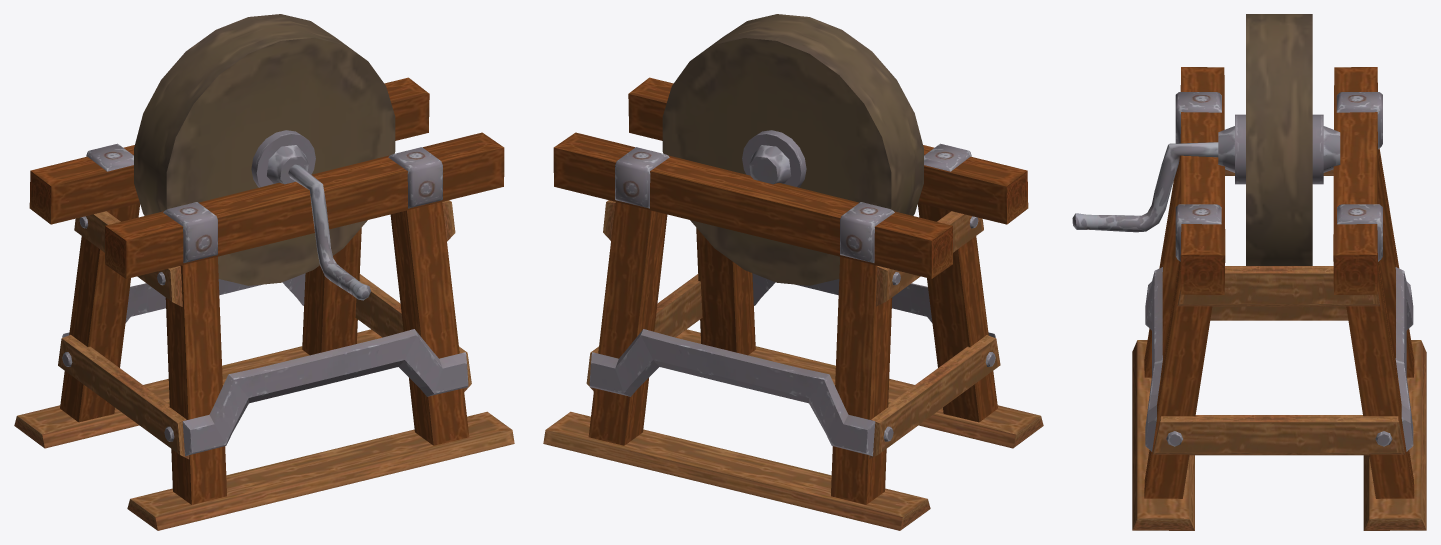
Rendered from Whetstone.glb.
3 views of the same model, side by side, from view 1: azimuth 30°, elevation 25°; view 2: azimuth 150°, elevation 25°; view 3: azimuth 270°, elevation 25° (orthographic). The views are drawn at different scales.
Parts seen in each view (by area): view 1: Whetstone; view 2: Whetstone; view 3: Whetstone.
Boxes of the visible parts, x1,y1,x2,y2 form: Whetstone: (14,14,514,530); Whetstone: (543,14,1043,530); Whetstone: (1072,14,1426,530).
Bounding box in the file's own units: 1.14 × 1.17 × 0.9018.
Materials: 3 (3 with a texture image).
